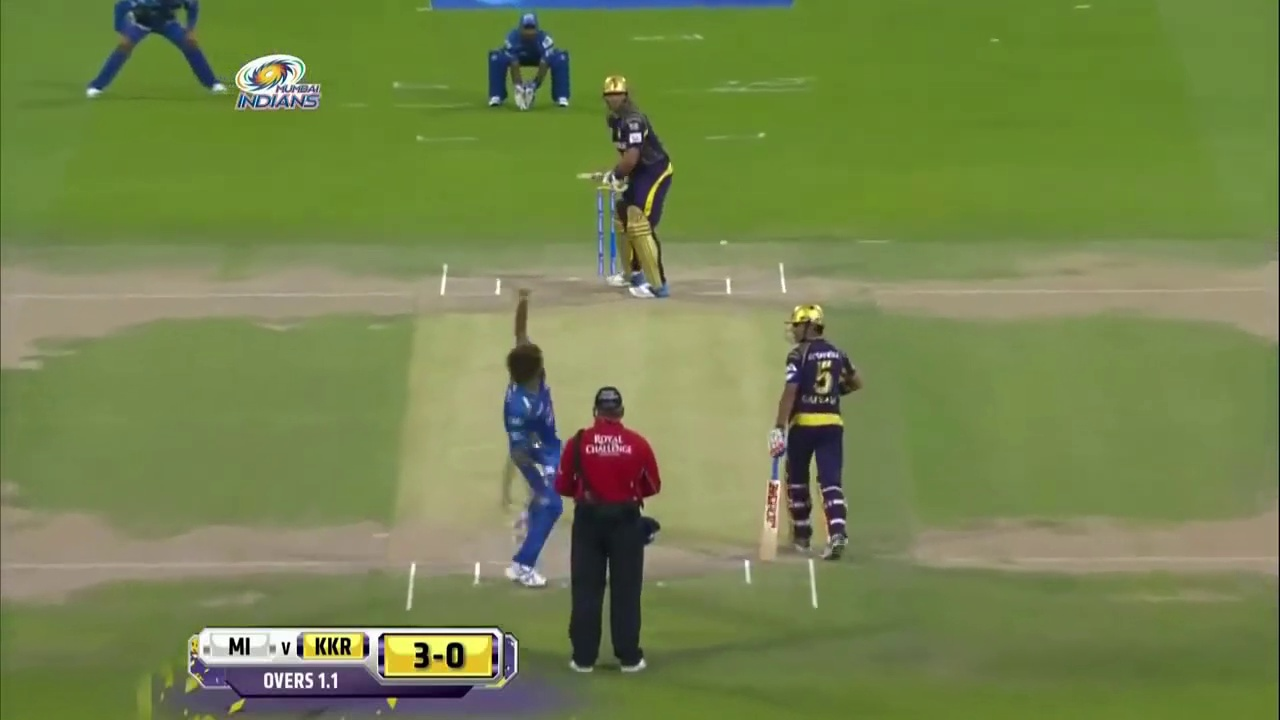bat: (760, 461, 785, 564)
